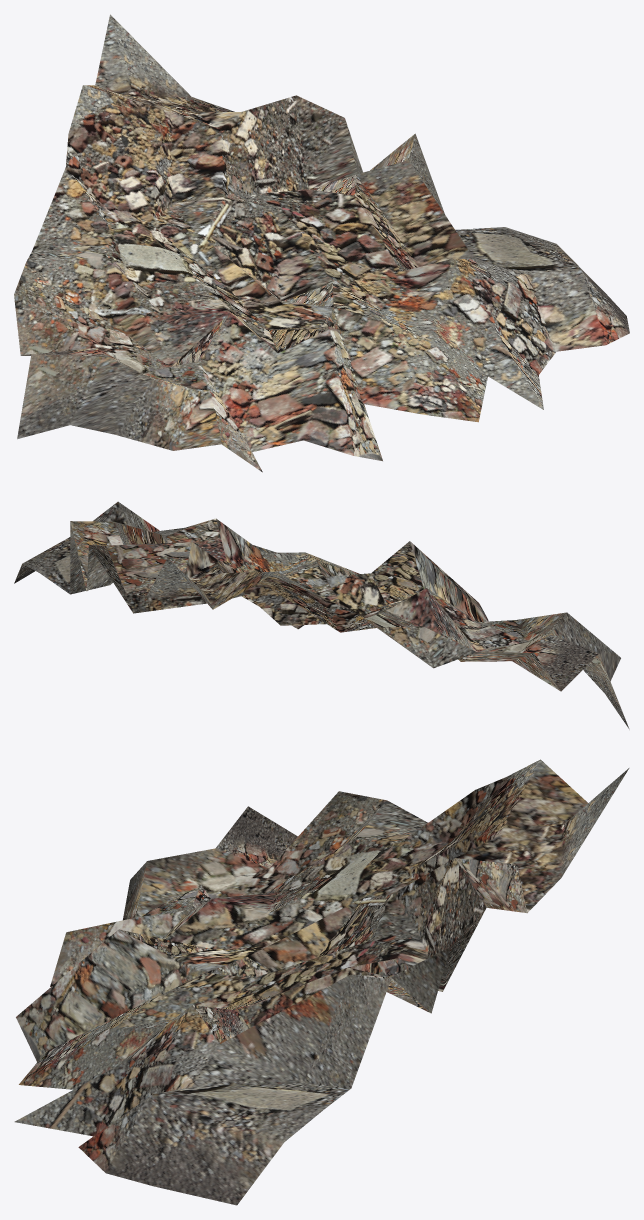
The model's file is RubCorner.FBX.
3 views of the same model, one above another, from view 1: azimuth 30°, elevation 25°; view 2: azimuth 150°, elevation 25°; view 3: azimuth 270°, elevation 25° (orthographic). The views are drawn at different scales.
Visible parts, largest first — view 1: Plane01; view 2: Plane01; view 3: Plane01.
Part boxes in pixels (x1=…): Plane01: x1=14, y1=14, x2=629, y2=472; Plane01: x1=14, y1=501, x2=629, y2=729; Plane01: x1=14, y1=759, x2=629, y2=1205.
Size of the model in its own units: 4.91 by 2.05 by 3.92.
